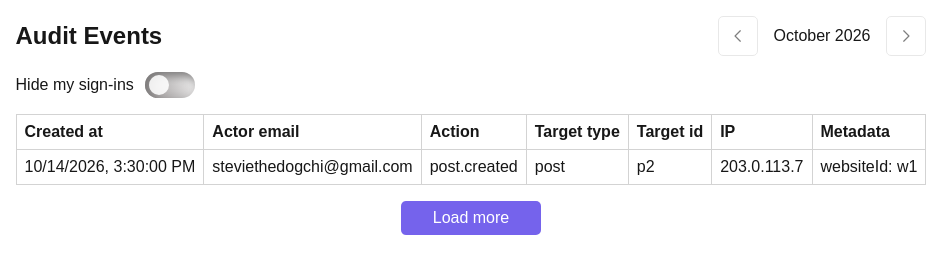
Audit Events page › keeps the rows and shows the message when Load more fails
Click the button "Load more". click: (471, 218)
box: top-left (401, 201), bottom-right (541, 235)
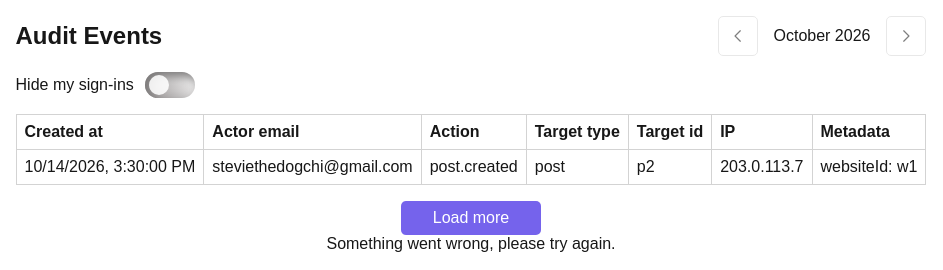
expect the text "Something went wrong, please try again." is shown: met, box top-left (326, 235), bottom-right (616, 253)
